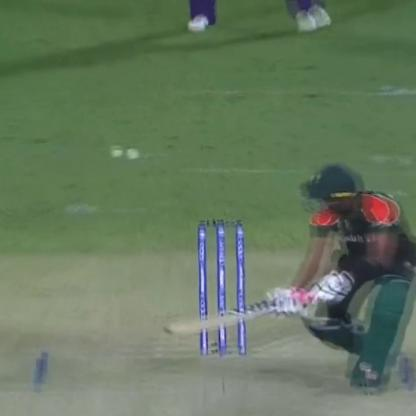ball: (123, 148, 150, 165), (103, 141, 127, 160)
bat: (159, 298, 296, 338)
pitch: (1, 314, 416, 416)
